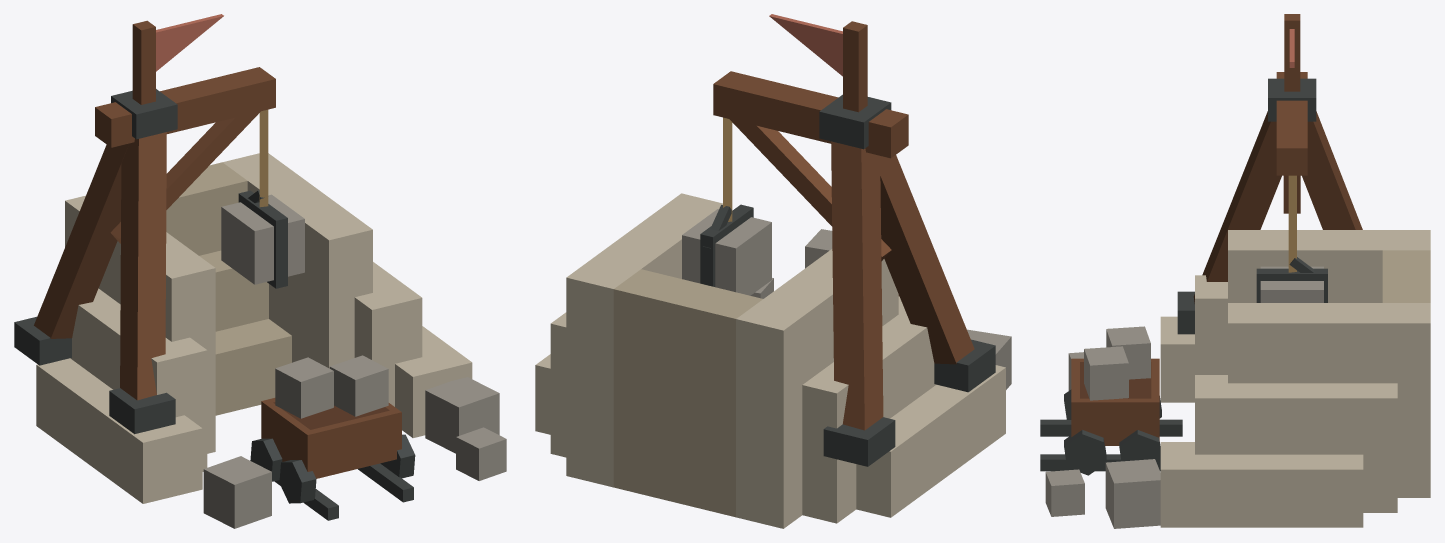
The model's file is quarry.glb.
The picture shows the model from 3 angles, left to right: view 1: azimuth 30°, elevation 25°; view 2: azimuth 150°, elevation 25°; view 3: azimuth 270°, elevation 25°; orthographic projection. The views are drawn at different scales.
Visible parts, largest first — view 1: quarry; view 2: quarry; view 3: quarry.
Part boxes in pixels (x1,y1,x2,y2): quarry: [14, 14, 506, 528]; quarry: [535, 14, 1011, 528]; quarry: [1040, 14, 1430, 528].
Size of the model in its own units: 0.3634 by 0.429 by 0.389.
